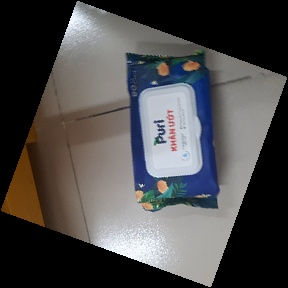Puri Xanh: (124, 49, 220, 214)
